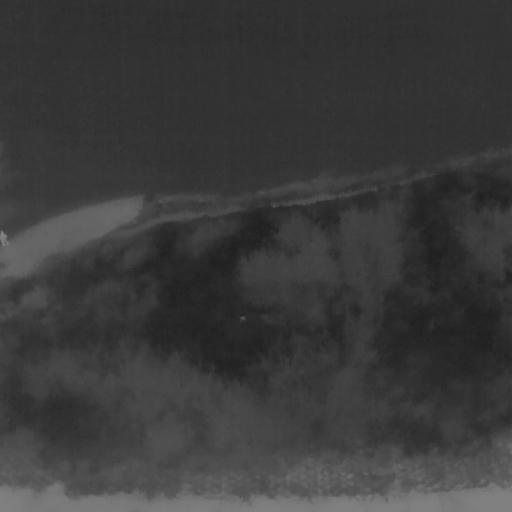uav: (239, 315, 248, 324)
